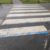zebra: (1, 4, 50, 36)
